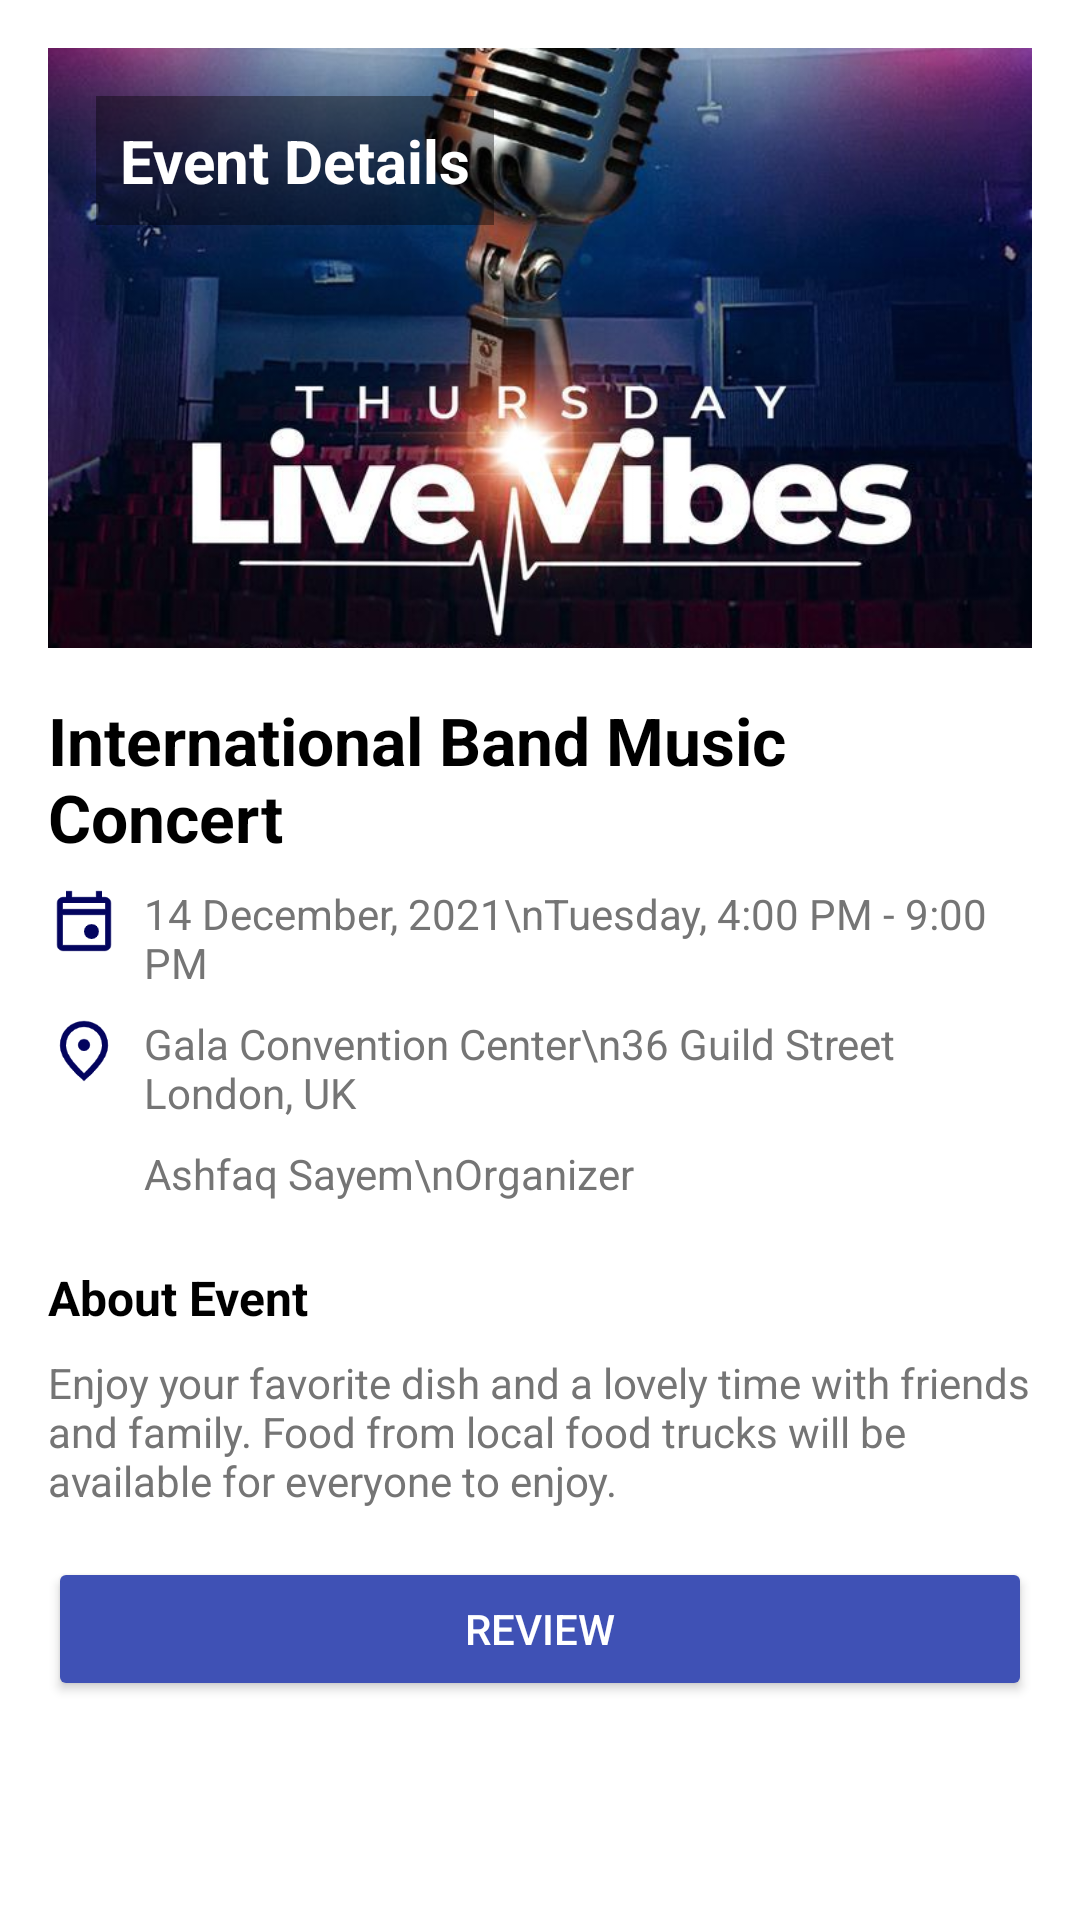

Where to tap for icons on this 1080 × 1920 app screen, as (x,y):
Date Icon: (84,921)
Location Icon: (84,1051)
